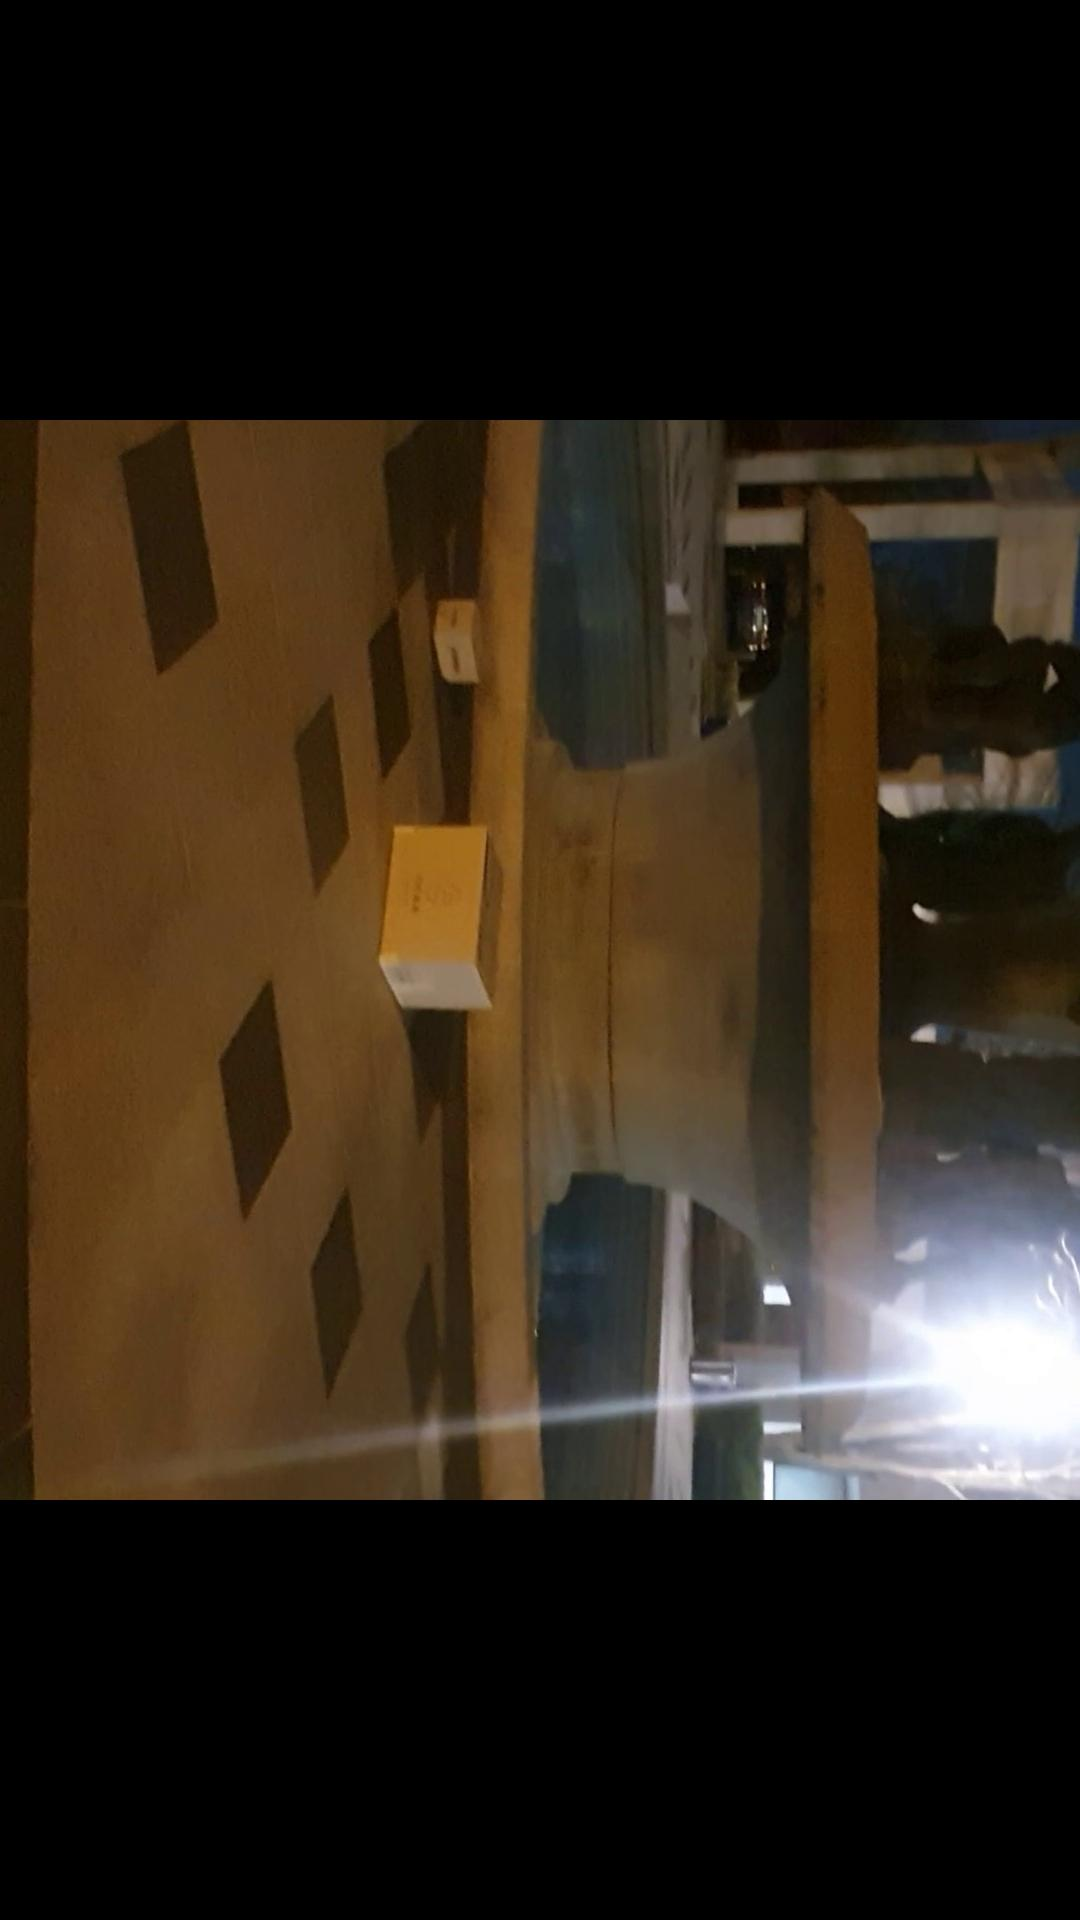Box: (385, 808, 517, 1010), (425, 593, 512, 682)
